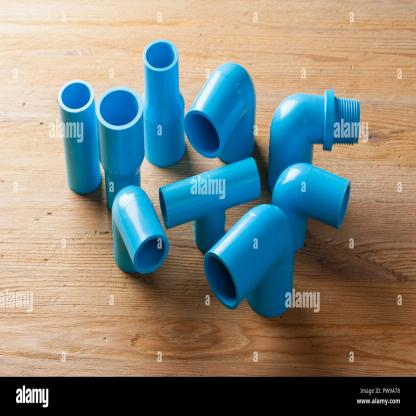PVC: (159, 61, 359, 318), (58, 79, 169, 273), (143, 38, 186, 170)
